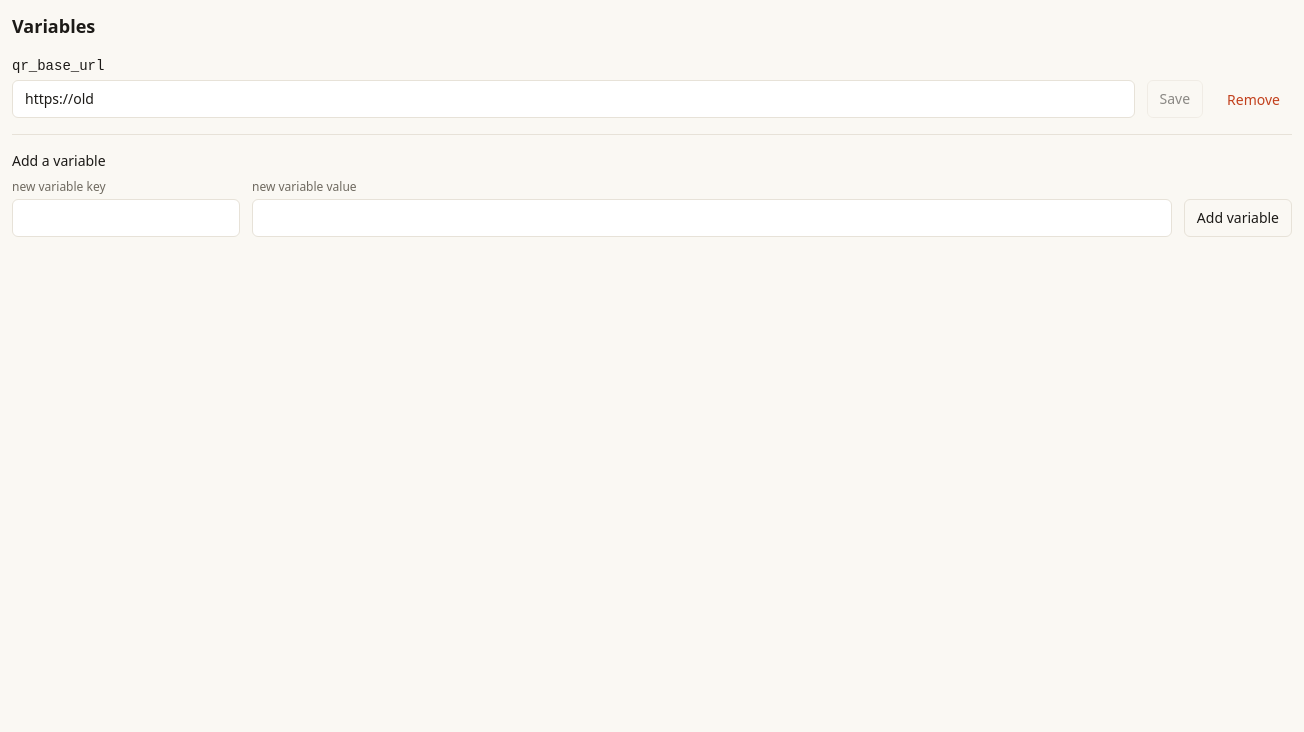
Test: VariablesSection › turns a removed suggested key back into a clean suggested row
Expected: the field labelled "qr_base_url" holds "https://old", left=12, top=80, right=1134, bottom=118
What coordinates should you click on to do the following:
click the button with aria-label "remove qr_base_url"
I would click on:
 (1254, 100)
Its box is left=1215, top=82, right=1292, bottom=118.
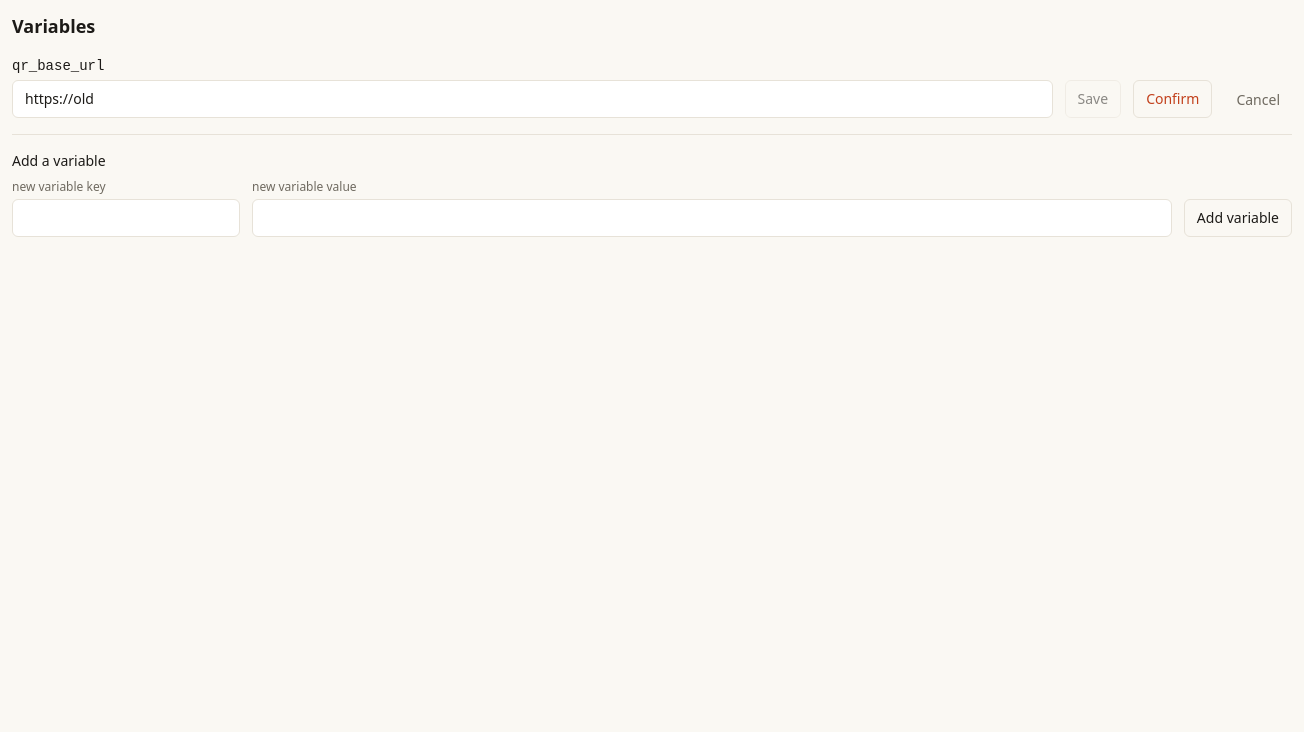
What coordinates should you click on to do the following:
click the button with aria-label "confirm remove qr_base_url"
I would click on:
 (1173, 99)
Its box is left=1133, top=80, right=1212, bottom=118.
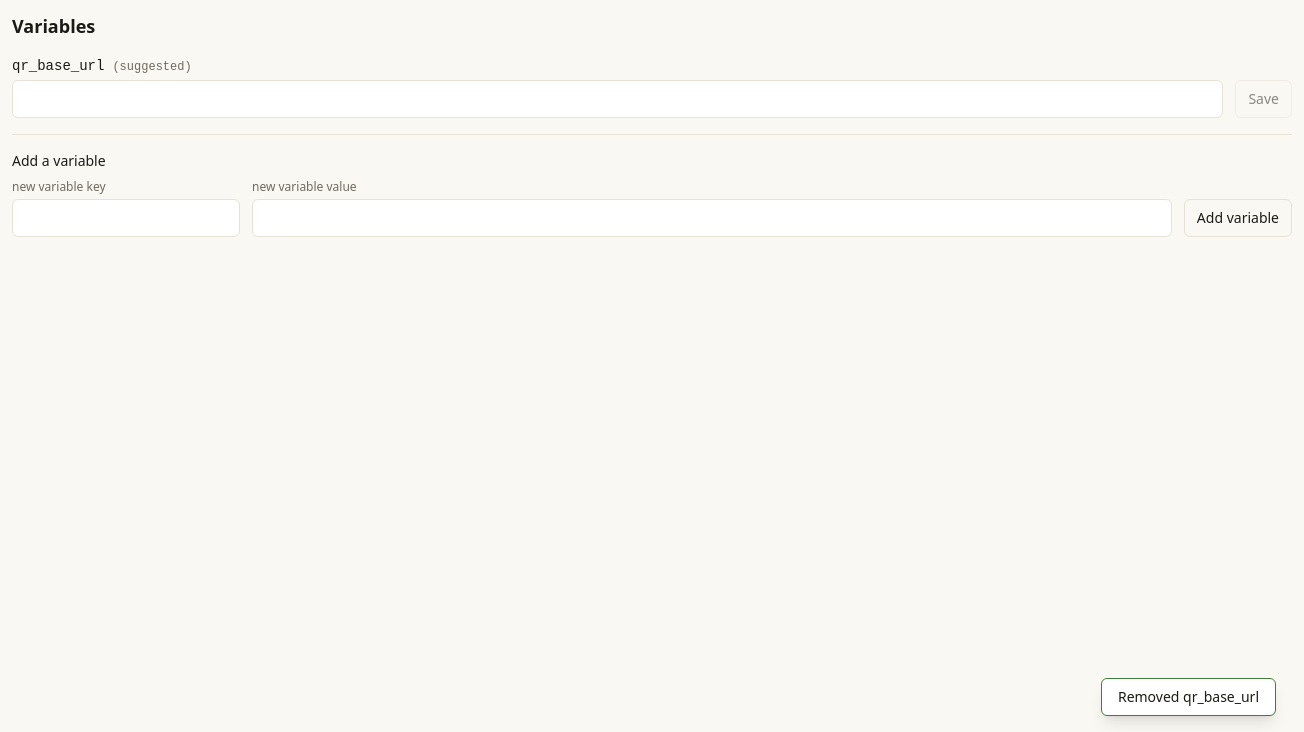
Expected: the button with aria-label "save qr_base_url" is disabled, left=1235, top=80, right=1292, bottom=118
Expected: the field labelled "qr_base_url" is empty, left=12, top=80, right=1223, bottom=118
Expected: the button "Confirm" is gone
